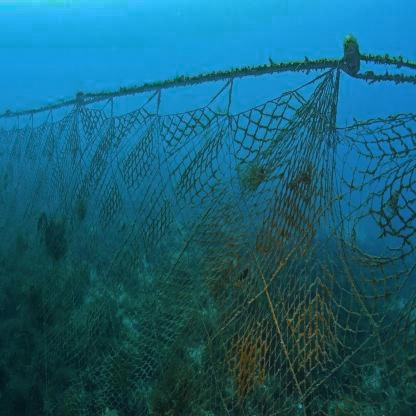net: (1, 53, 414, 410)
